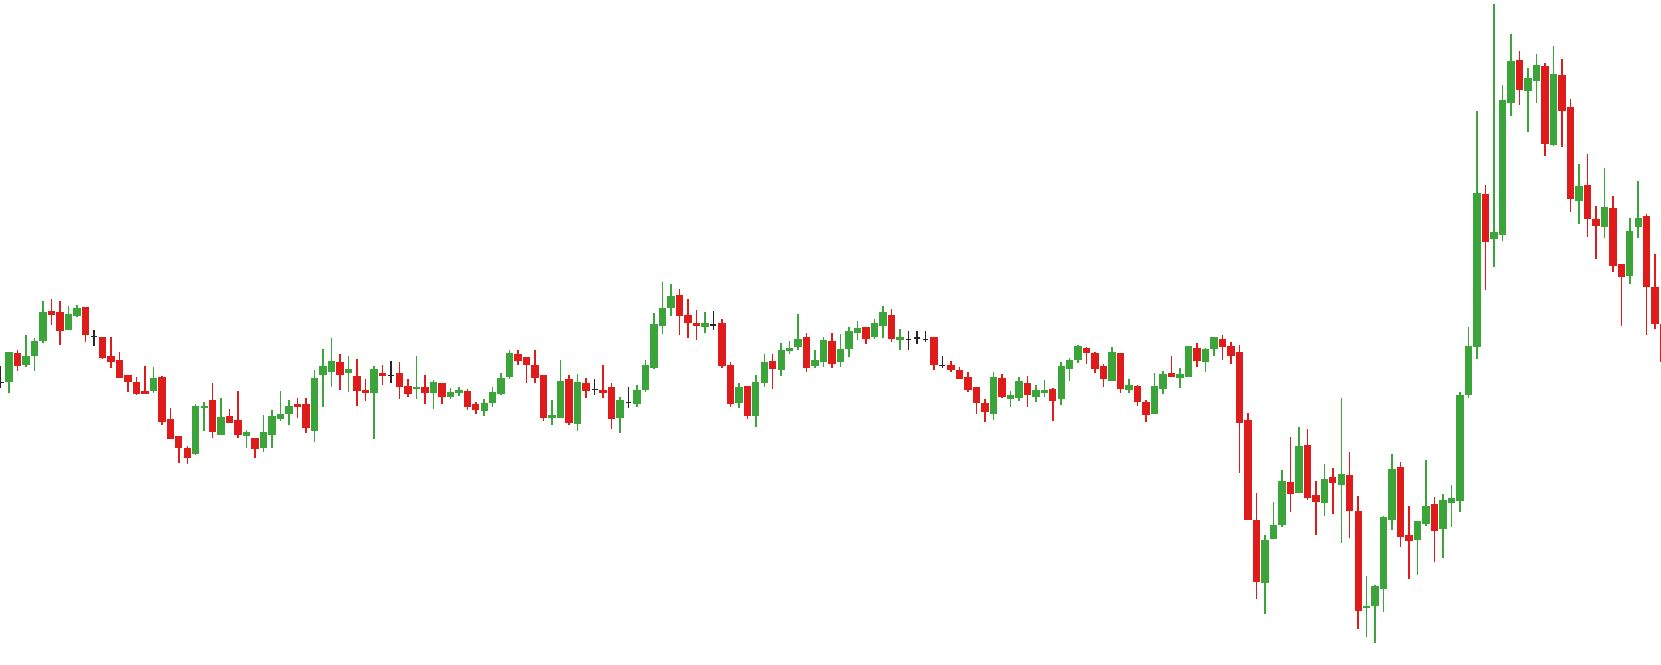buy: (1261, 484, 1378, 650), (564, 380, 625, 437)
